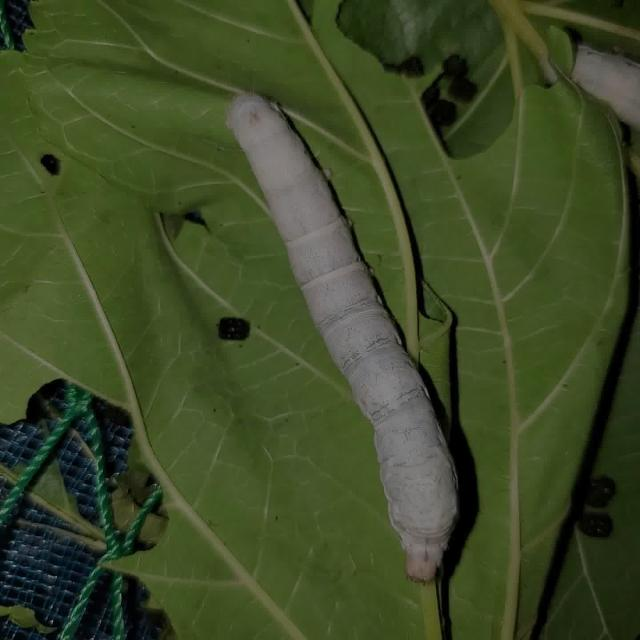Healthy: (202, 61, 484, 604)
